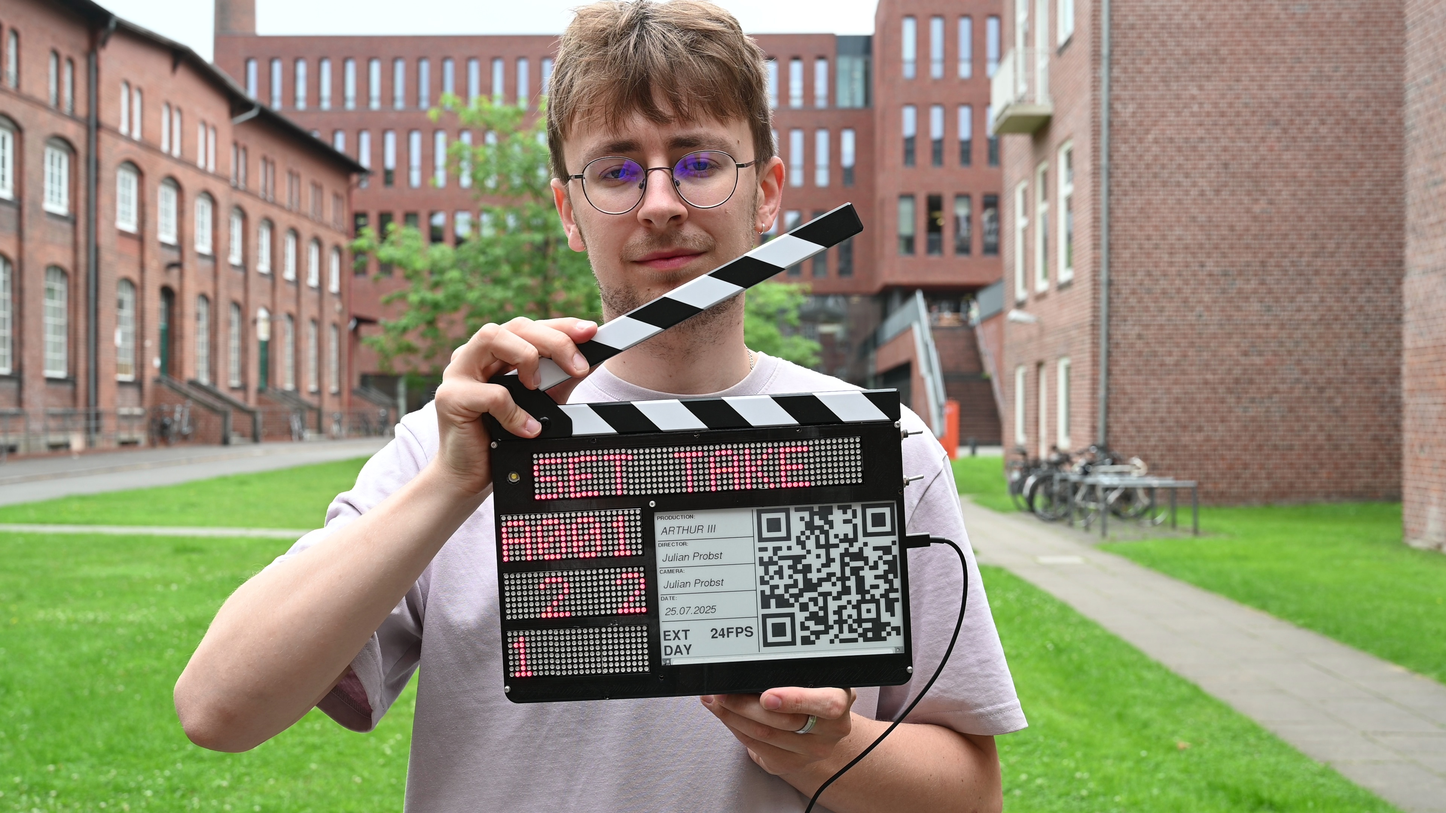ARC-SLATE: (490, 388, 914, 704)
